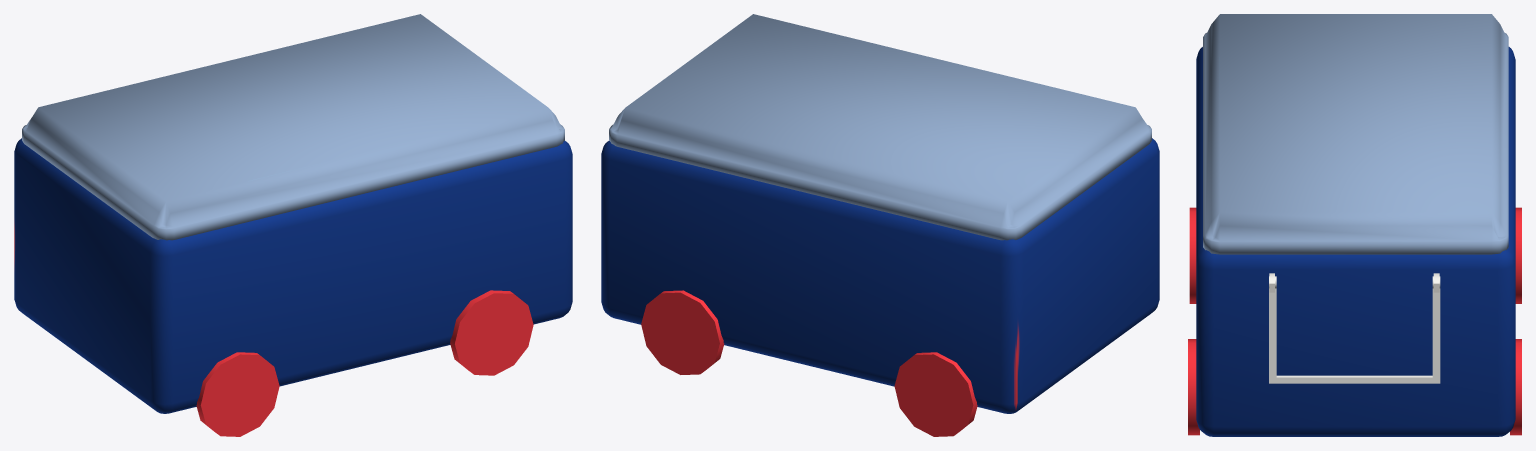
The model's file is ov_toy box.FBX.
3 renders of one model, left to right at view 1: azimuth 30°, elevation 25°; view 2: azimuth 150°, elevation 25°; view 3: azimuth 270°, elevation 25°, orthographic. The views are drawn at different scales.
Visible parts, largest first — view 1: ChamferBox001; view 2: ChamferBox001; view 3: ChamferBox001.
Boxes of the visible parts, x1,y1,x2,y2 form: ChamferBox001: (14, 14, 572, 436); ChamferBox001: (601, 14, 1159, 436); ChamferBox001: (1188, 14, 1521, 436).
Bounding box in the file's own units: 59.17 × 30.92 × 36.7.
